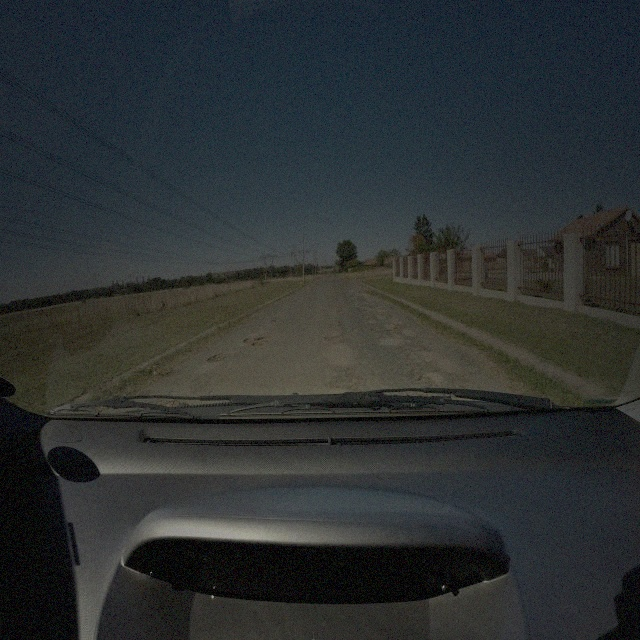pothole: (244, 335, 271, 348), (208, 351, 225, 363), (416, 373, 432, 385), (324, 336, 341, 342), (397, 324, 408, 331), (271, 316, 280, 324), (353, 327, 360, 335), (372, 328, 380, 334)
